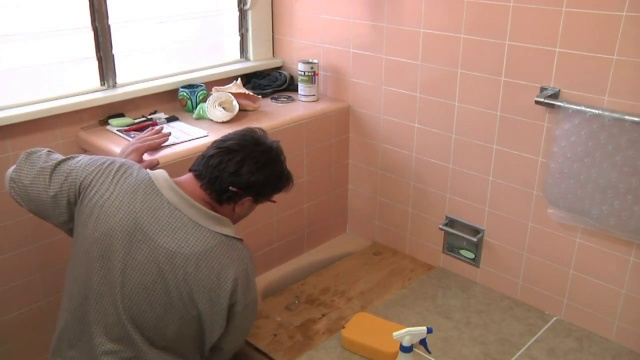person: (10, 126, 295, 359)
